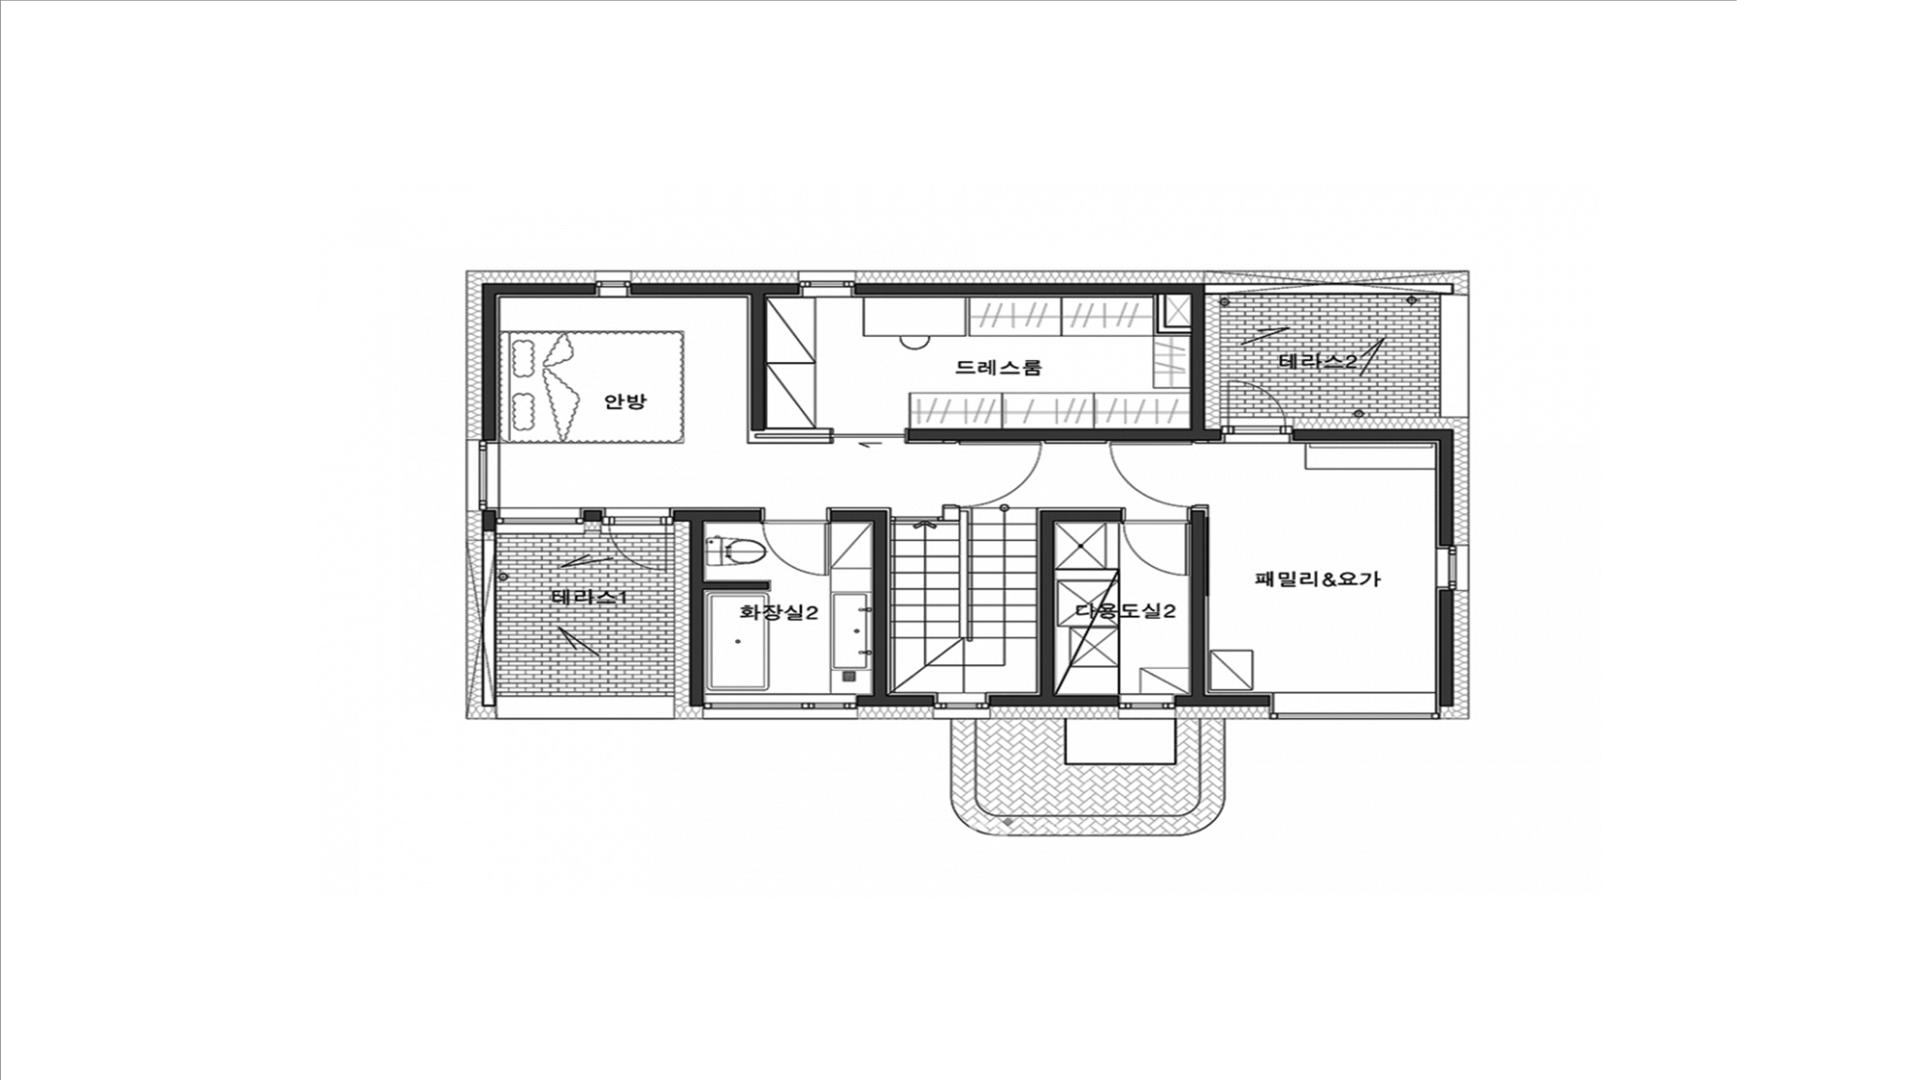door: (1109, 441, 1209, 508), (942, 442, 1042, 507), (760, 507, 830, 577), (1121, 508, 1190, 577), (747, 429, 908, 444)
wall: (496, 696, 675, 720), (854, 283, 1205, 295), (1439, 295, 1470, 418), (907, 429, 1221, 441), (1205, 283, 1454, 295), (872, 510, 887, 695), (1040, 510, 1055, 695), (1190, 510, 1205, 695), (689, 522, 703, 707), (482, 531, 496, 707), (750, 294, 767, 429), (482, 283, 496, 440), (631, 283, 799, 295), (1190, 295, 1205, 429), (1293, 429, 1454, 441), (1439, 590, 1454, 707), (1438, 440, 1454, 546), (990, 695, 1119, 707), (496, 283, 595, 295), (1175, 695, 1270, 707), (673, 510, 760, 522), (857, 695, 933, 707), (1055, 510, 1121, 522), (703, 581, 769, 590), (830, 510, 872, 522), (1156, 295, 1167, 326), (891, 516, 943, 522), (482, 510, 496, 531), (1156, 326, 1191, 334), (942, 507, 960, 521), (584, 510, 602, 522)
window: (1270, 692, 1439, 720), (1220, 380, 1293, 443), (602, 507, 673, 571), (703, 693, 857, 720), (465, 439, 500, 511), (496, 507, 584, 533), (799, 270, 854, 298), (1435, 546, 1470, 590), (934, 692, 990, 719), (1119, 693, 1175, 720), (595, 270, 631, 298)
